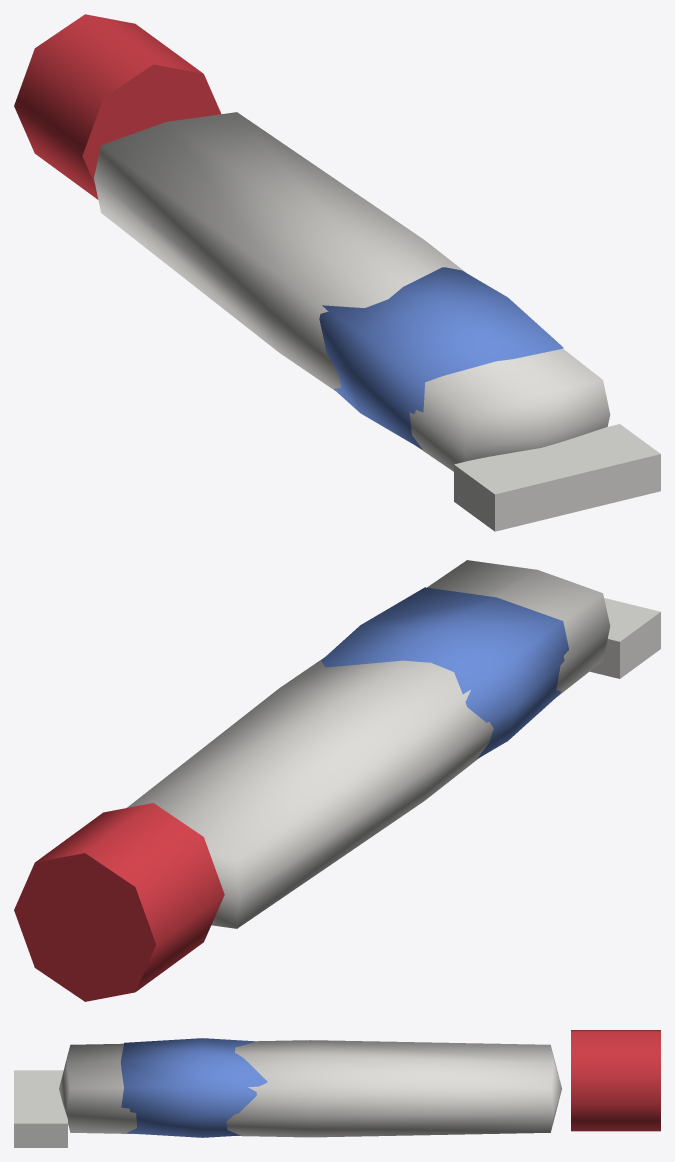
File: toothpaste.glb
The picture shows the model from 3 angles, top to bottom: view 1: azimuth 30°, elevation 25°; view 2: azimuth 150°, elevation 25°; view 3: azimuth 270°, elevation 25°; orthographic projection. The views are drawn at different scales.
Visible parts, largest first — view 1: root; view 2: root; view 3: root.
Part boxes in pixels (box(x1,y1,x2,y2)): root: box(14, 14, 660, 531); root: box(14, 560, 660, 1001); root: box(14, 1030, 660, 1147).
Size of the model in its own units: 0.071 by 0.06 by 0.36.
